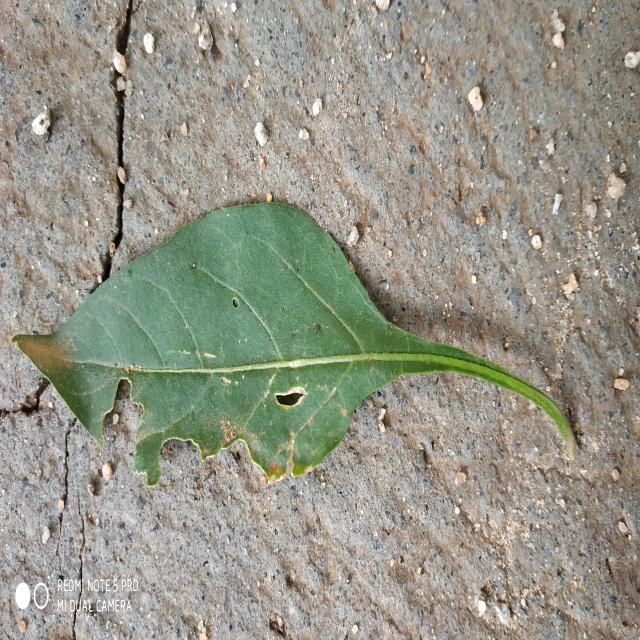ganike: (16, 204, 575, 487)
